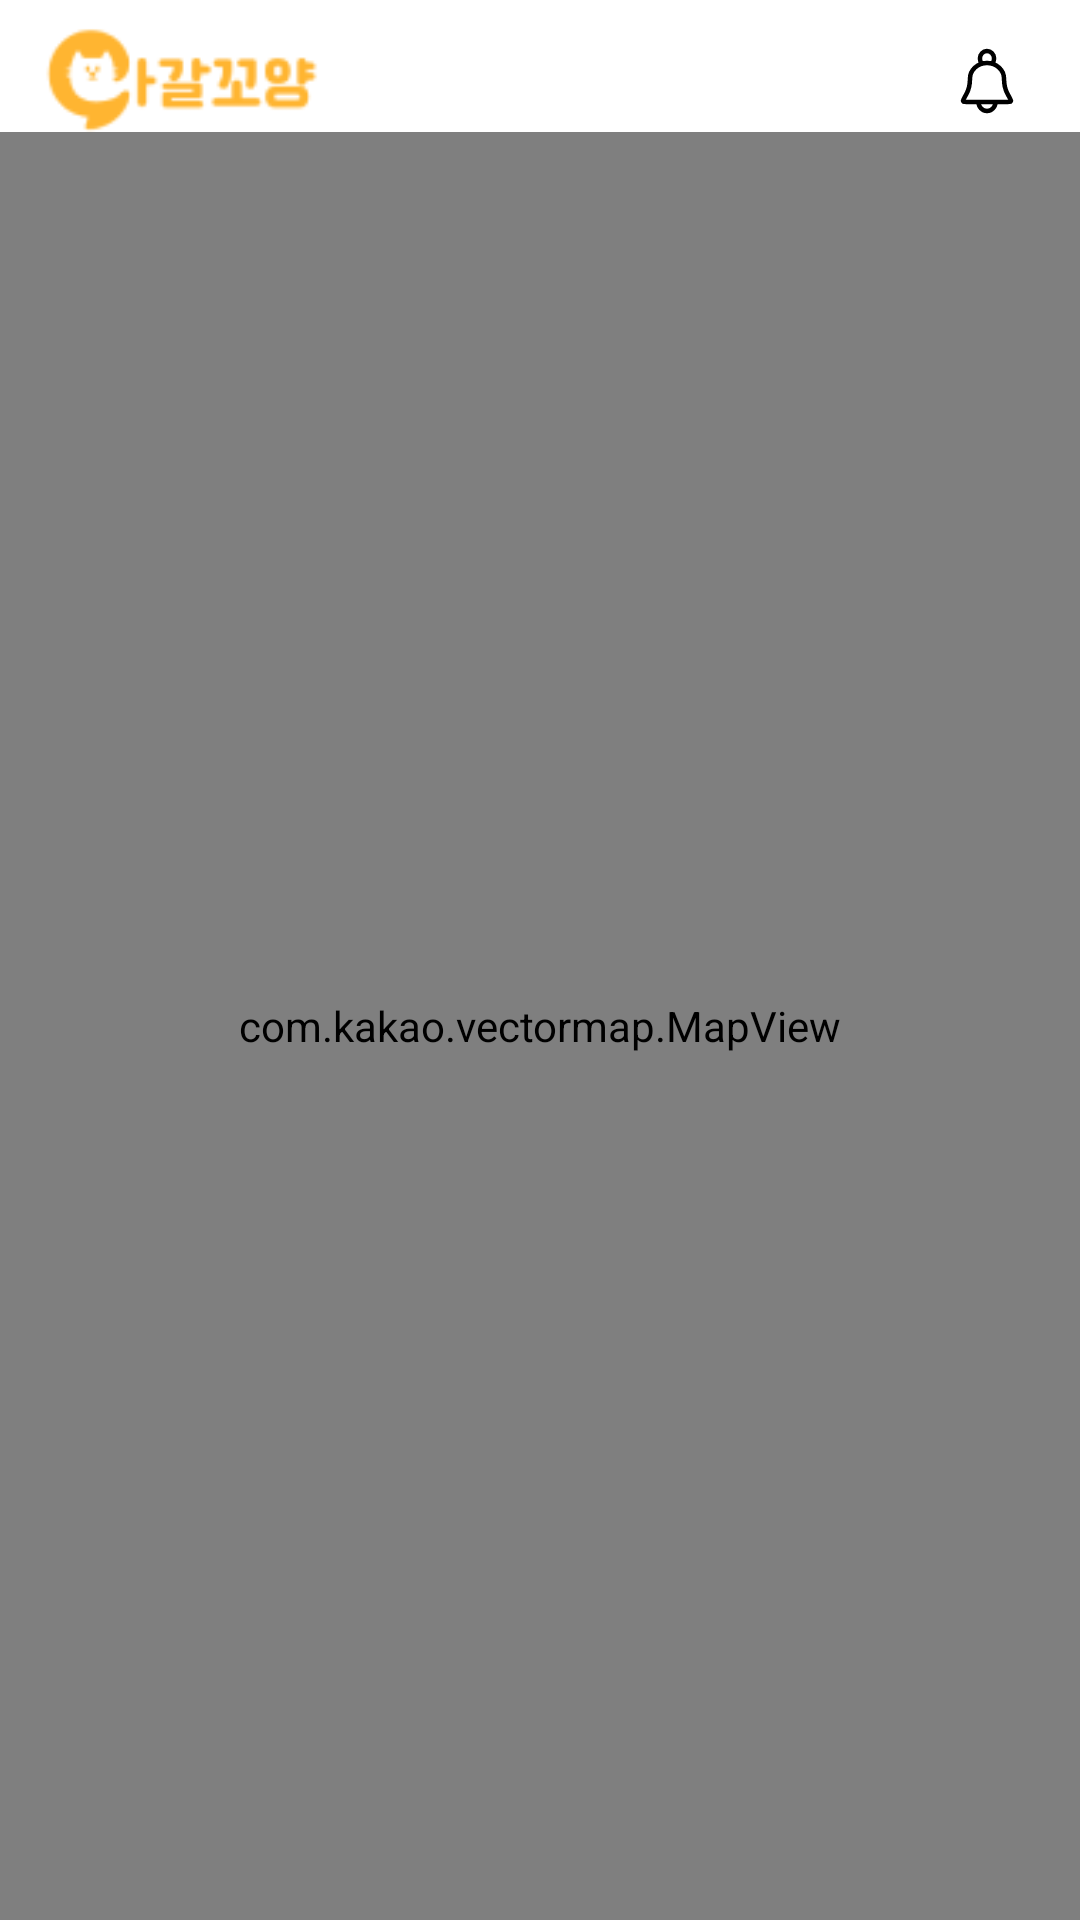

Named icons in this screenshot (1080px x 1920px) and their bounding boxes, (x1, y1, x2, y2):
notice: (960, 48, 1014, 114)
